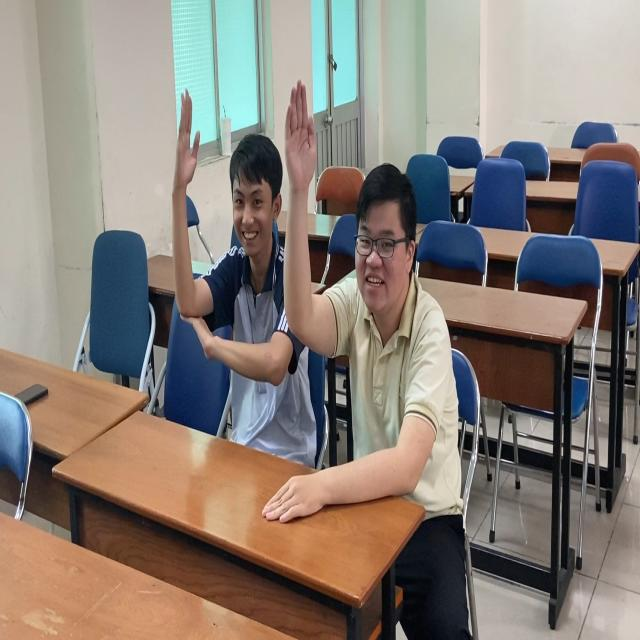raise_hand: (290, 57, 462, 516), (162, 81, 296, 475)
